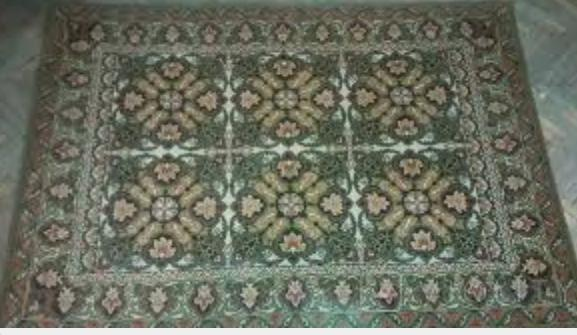carpet: (0, 3, 577, 326)
